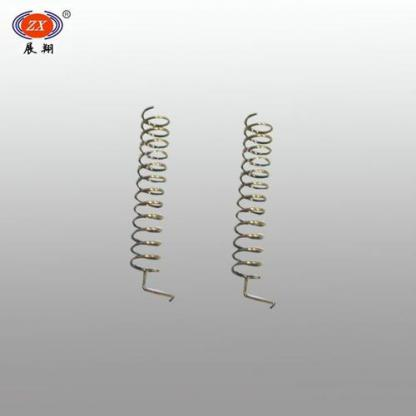FOD: (126, 103, 193, 306), (230, 108, 283, 312)
